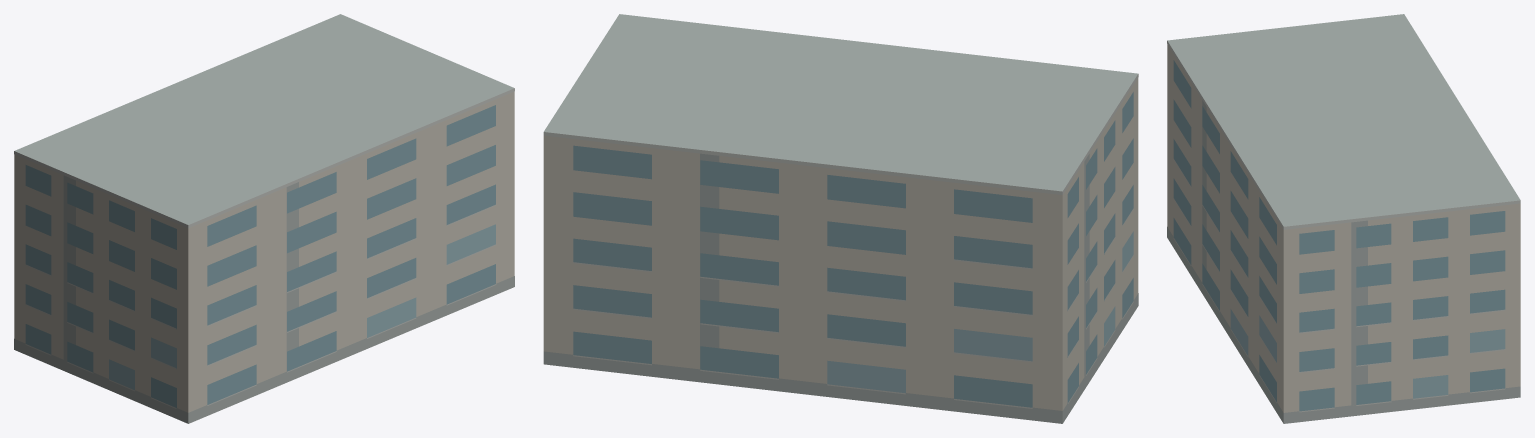
Rendered from residential-a643214e-1425-4bf2-b287-8a6f6384f32d.glb.
3 renders of one model, left to right at view 1: azimuth 30°, elevation 25°; view 2: azimuth 150°, elevation 25°; view 3: azimuth 270°, elevation 25°, orthographic. The views are drawn at different scales.
Visible parts, largest first — view 1: residential-a643214e-1425-4bf2-b287-8a6f6384f32d.tmp; view 2: residential-a643214e-1425-4bf2-b287-8a6f6384f32d.tmp; view 3: residential-a643214e-1425-4bf2-b287-8a6f6384f32d.tmp.
Part boxes in pixels (<box>): residential-a643214e-1425-4bf2-b287-8a6f6384f32d.tmp: <box>14,14,514,423</box>; residential-a643214e-1425-4bf2-b287-8a6f6384f32d.tmp: <box>543,14,1138,423</box>; residential-a643214e-1425-4bf2-b287-8a6f6384f32d.tmp: <box>1167,14,1520,423</box>.
Bounding box in the file's own units: 35.32 × 15.25 × 24.8.
